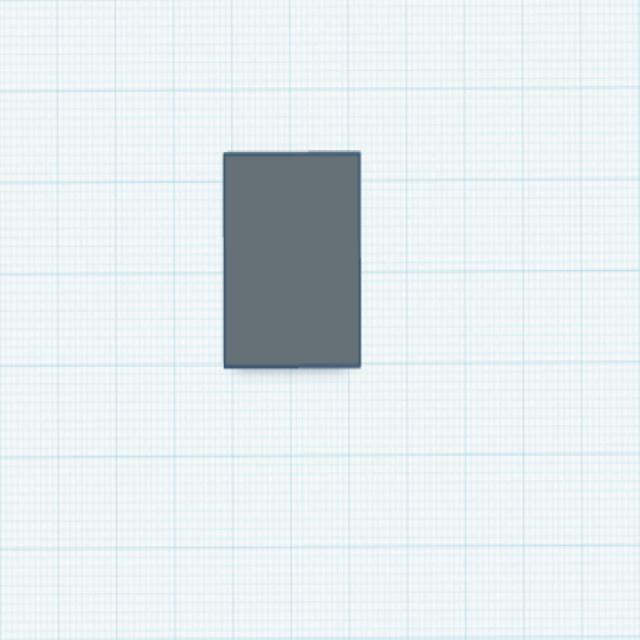cube: (217, 142, 366, 376)
